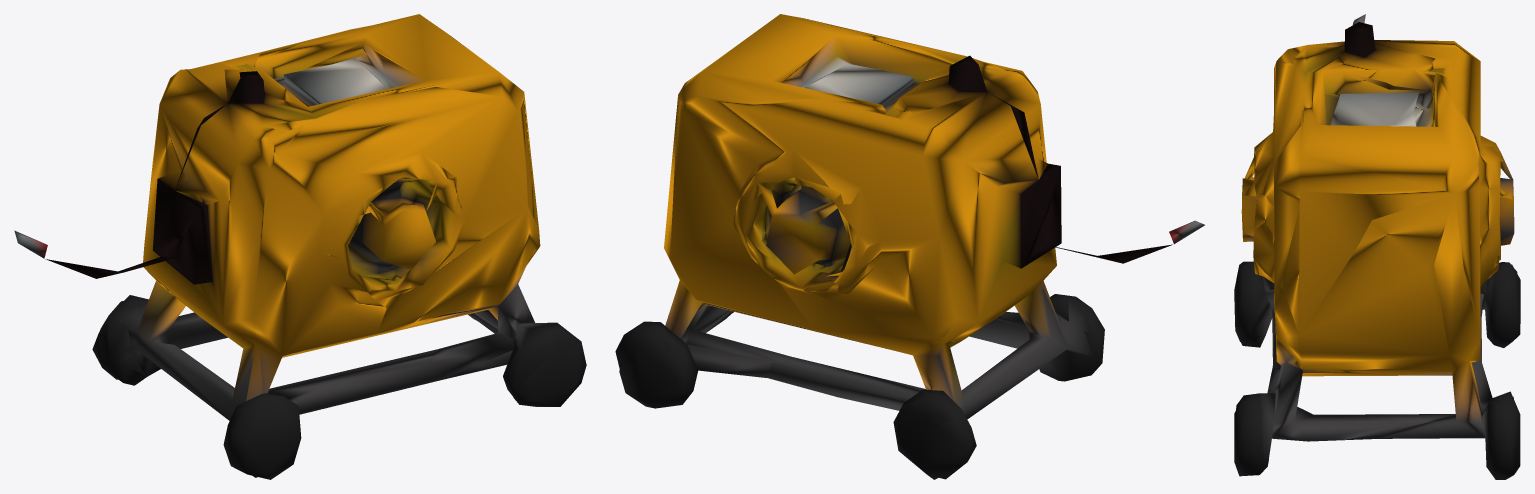
Rendered from gen3d-electric-generator-lod1.glb.
3 views of the same model, side by side, from view 1: azimuth 30°, elevation 25°; view 2: azimuth 150°, elevation 25°; view 3: azimuth 270°, elevation 25° (orthographic). The views are drawn at different scales.
Visible parts, largest first — view 1: part_0; view 2: part_0; view 3: part_0.
Part boxes in pixels (bbox=[...]): part_0: bbox=[14, 14, 586, 479]; part_0: bbox=[615, 14, 1204, 479]; part_0: bbox=[1234, 14, 1520, 479].
Bounding box in the file's own units: 1.51 × 0.9912 × 0.7621.
